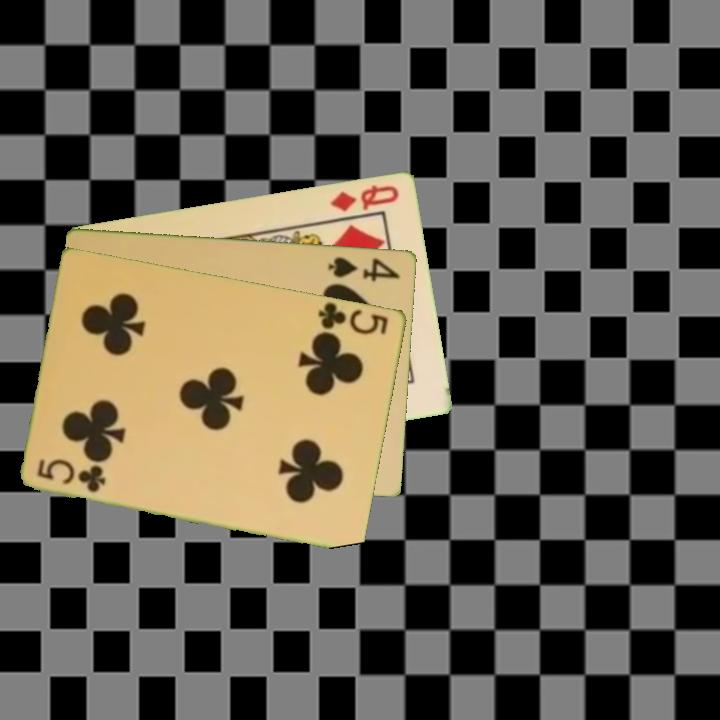4s: (324, 253, 403, 284)
5c: (34, 455, 110, 495), (315, 298, 392, 337)
Qd: (327, 181, 402, 214)
